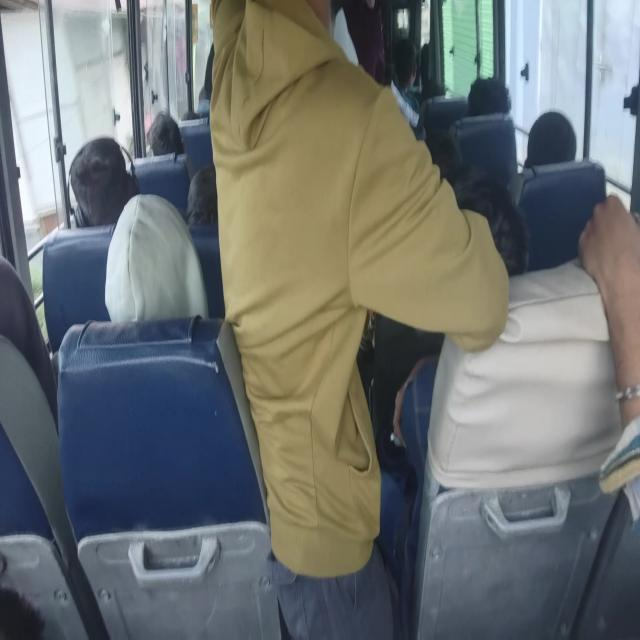person: (201, 0, 415, 503), (102, 206, 206, 339), (458, 183, 523, 284), (0, 570, 91, 640), (0, 281, 51, 398), (70, 144, 133, 224), (184, 165, 234, 238), (526, 117, 582, 168), (470, 78, 516, 131), (424, 126, 468, 178), (393, 43, 426, 96), (143, 108, 181, 154), (416, 74, 444, 110)
